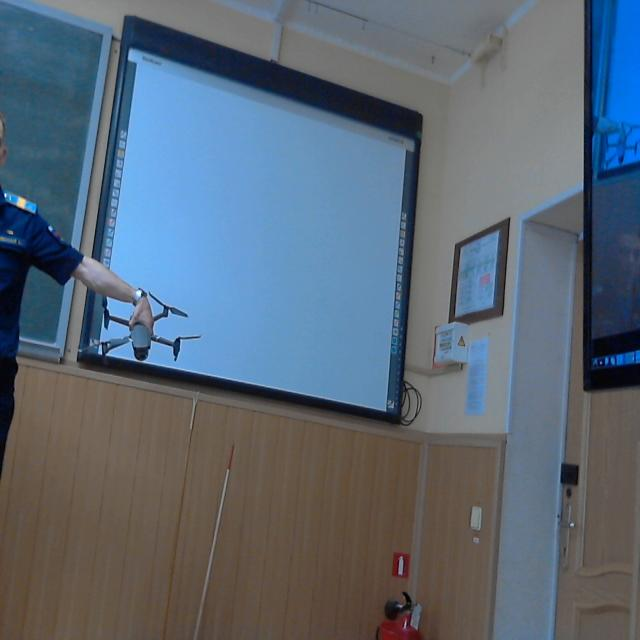drone: (78, 294, 206, 379)
